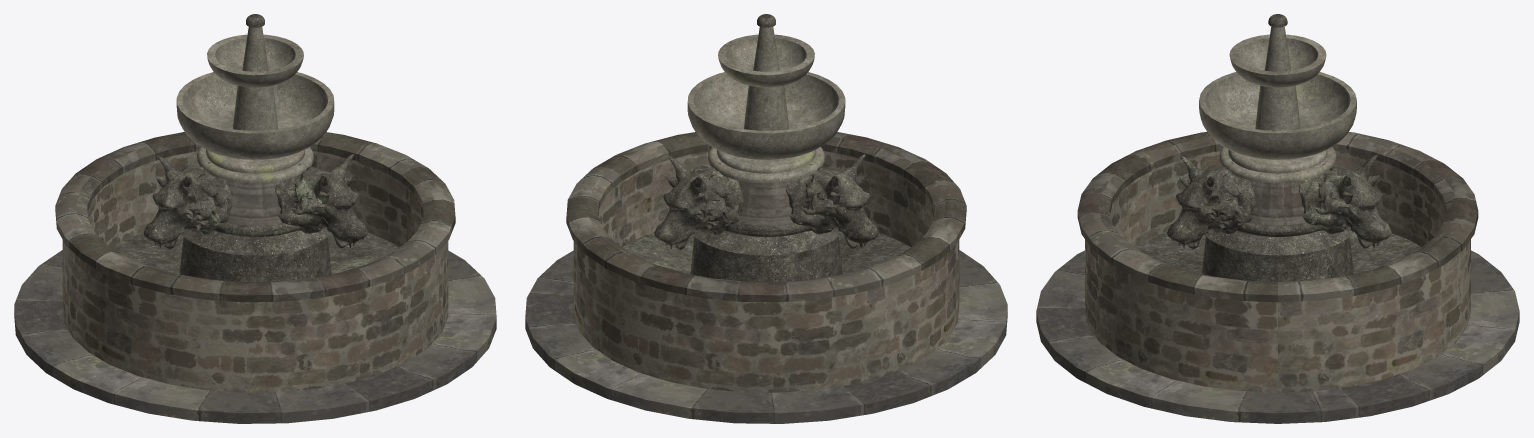
The model's file is df_fountain.glb.
3 views of the same model, side by side, from view 1: azimuth 30°, elevation 25°; view 2: azimuth 150°, elevation 25°; view 3: azimuth 270°, elevation 25° (orthographic).
Visible parts, largest first — view 1: KB3D_DKF_Fountain_A_Main; view 2: KB3D_DKF_Fountain_A_Main; view 3: KB3D_DKF_Fountain_A_Main.
Boxes of the visible parts, x1,y1,x2,y2 form: KB3D_DKF_Fountain_A_Main: [14, 14, 496, 423]; KB3D_DKF_Fountain_A_Main: [525, 14, 1007, 423]; KB3D_DKF_Fountain_A_Main: [1036, 14, 1519, 423].
Bounding box in the file's own units: 3.9 × 2.73 × 3.9.
6 materials, 6 textured.
